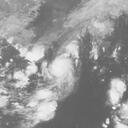cyclone: (45, 54, 78, 88)
